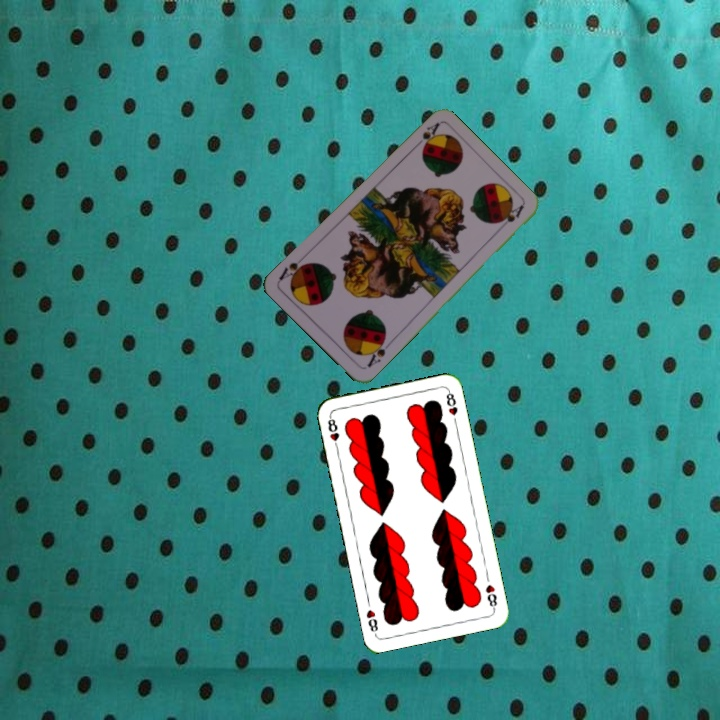H8: (323, 412, 342, 452), (481, 580, 500, 612)
SA: (363, 333, 394, 370), (409, 119, 442, 151)
